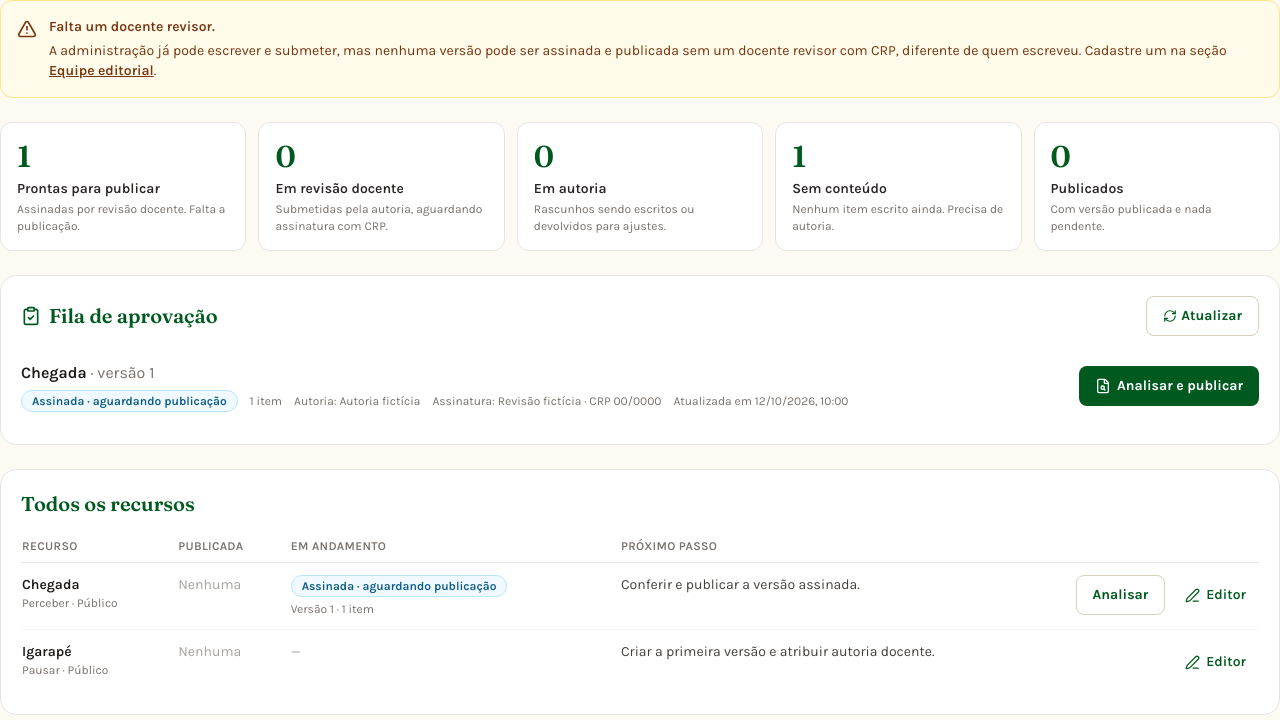
Test: ResourceApprovalBoard › only publishes after the administrator confirms the review
Click the button "Analisar e publicar": click(1169, 386) [1079,366,1259,406]
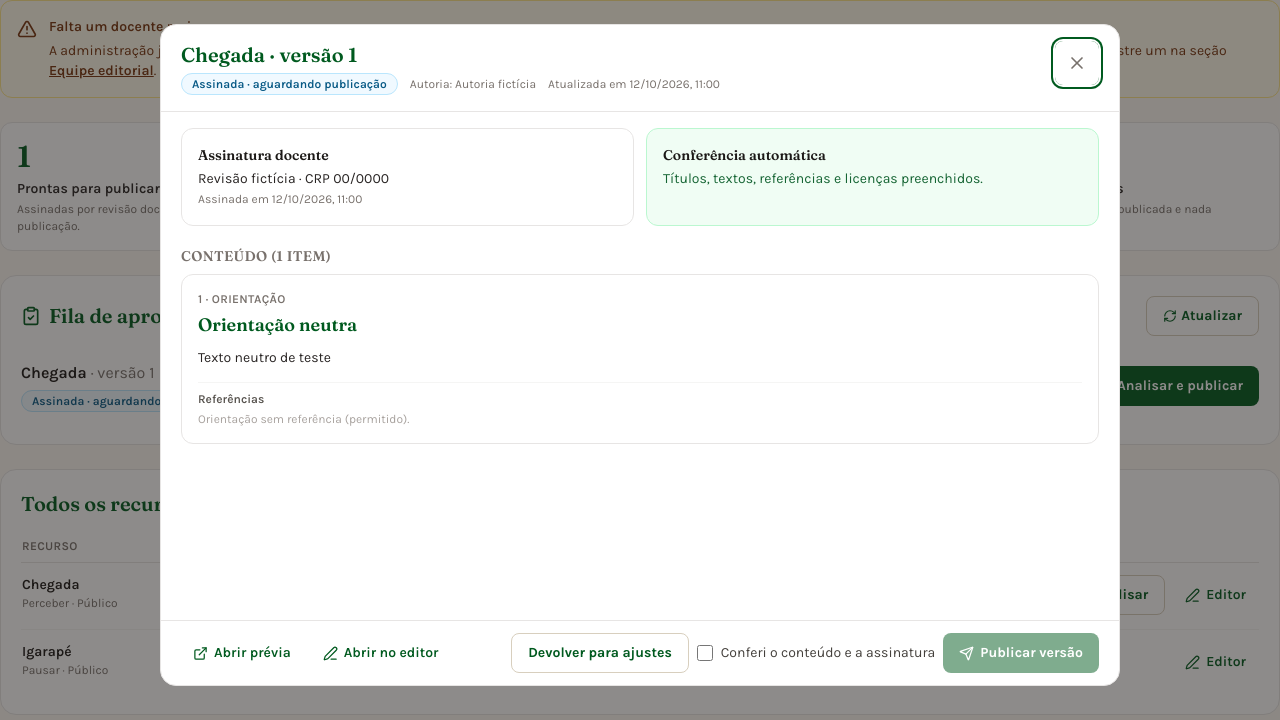
Result: the text "Texto neutro de teste" is shown at [198,349,331,366]
Result: the button "Publicar versão" is disabled at [943,633,1099,673]
Click the checkbox labelled "Conferi o conteúdo e a assinatura": click(705, 653) [697,645,713,661]
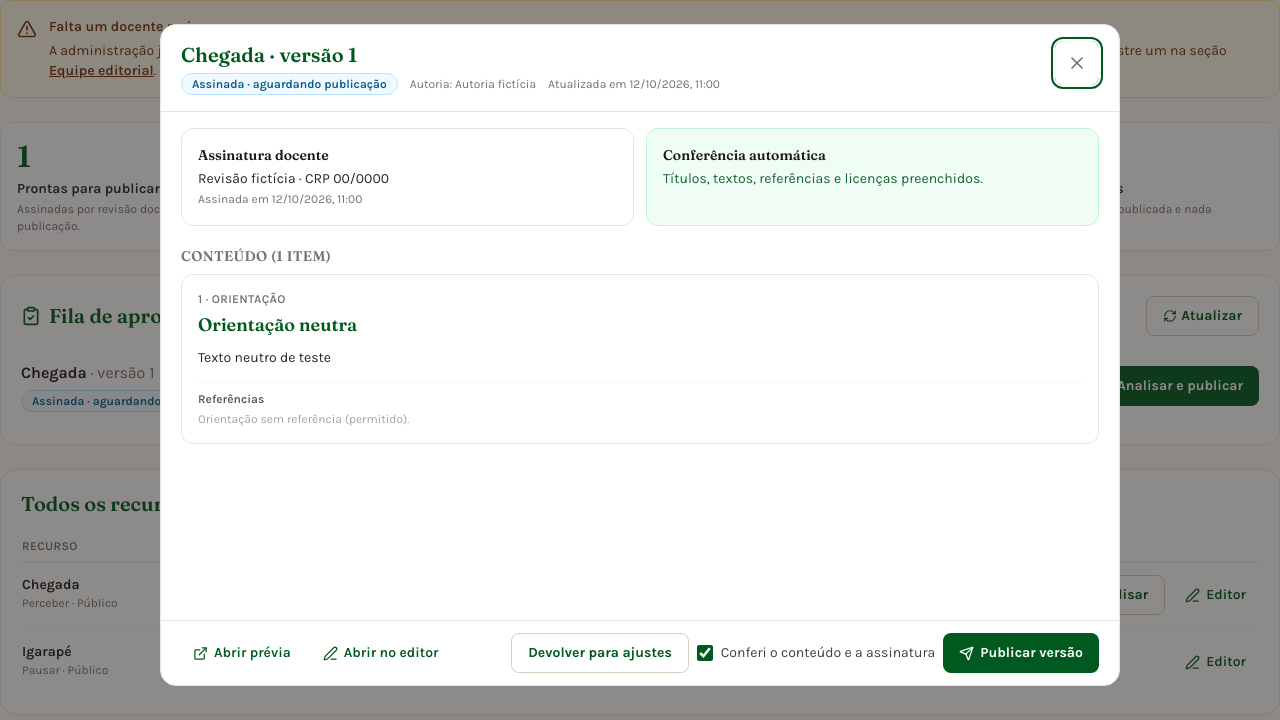
Click the button "Publicar versão": click(1021, 653) [943,633,1099,673]
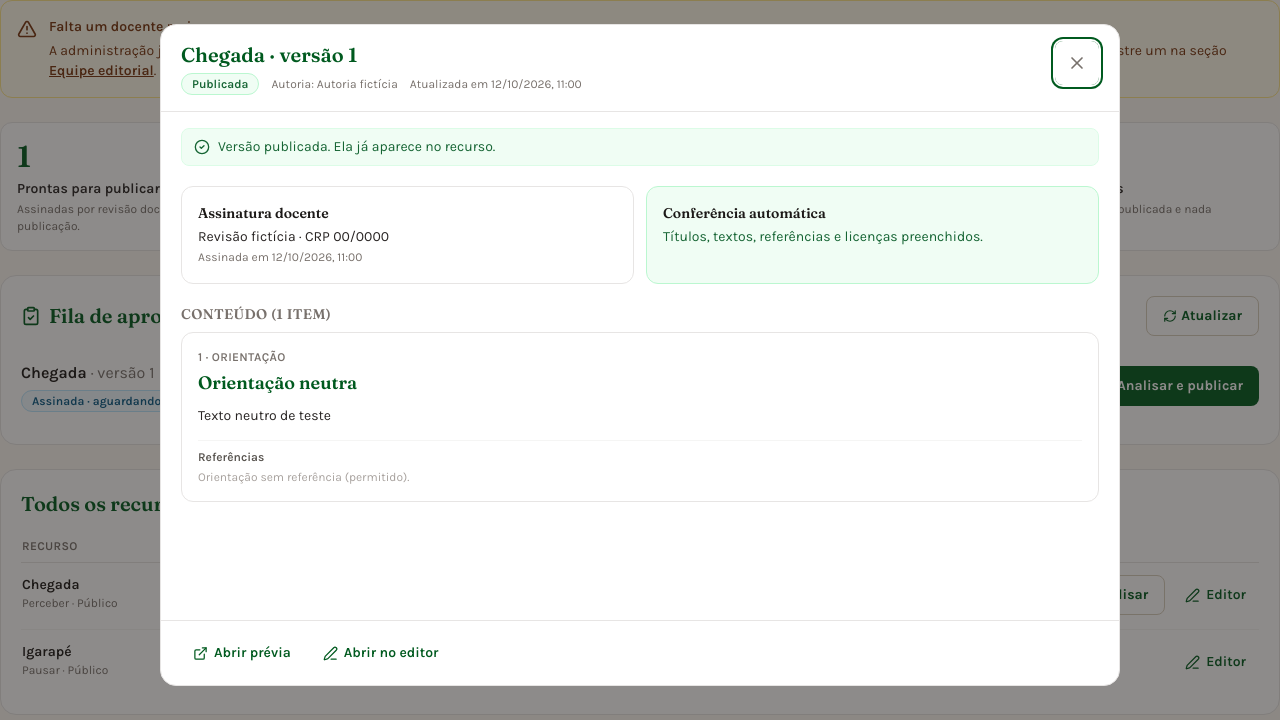
Result: the message "Versão publicada. Ela já aparece no recurso." is shown at [181,128,1099,166]
